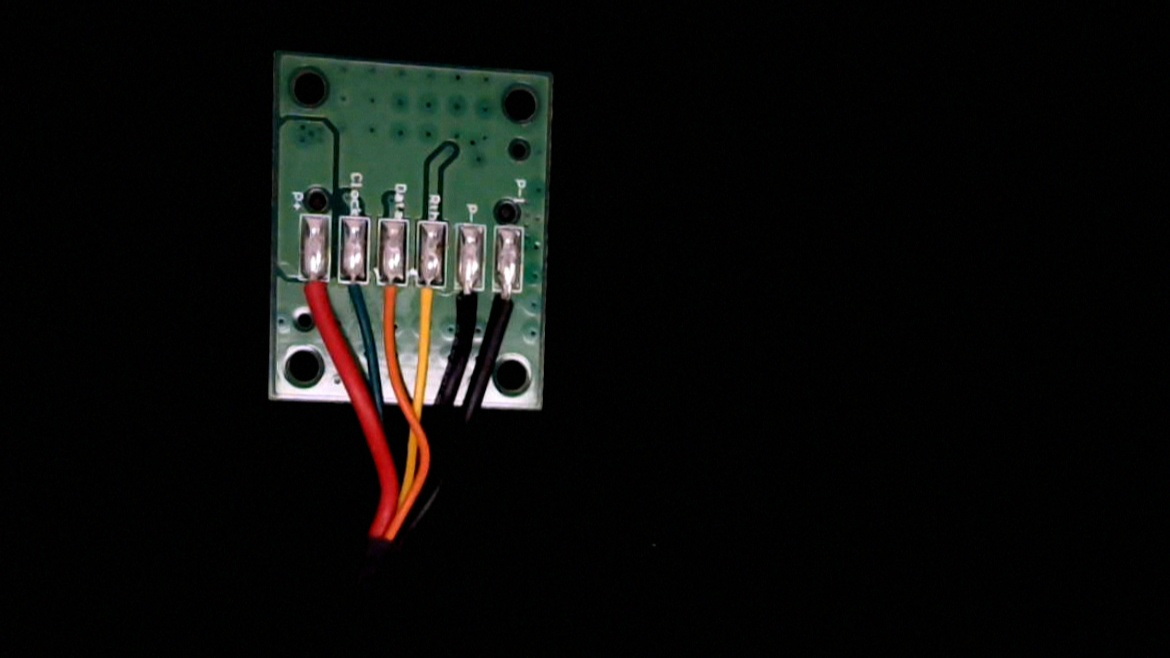Black: (451, 274, 485, 334)
Black1: (493, 273, 523, 326)
Green: (338, 269, 370, 321)
Orange: (379, 268, 407, 337)
Red: (300, 267, 331, 328)
Yellow: (411, 267, 442, 341)
